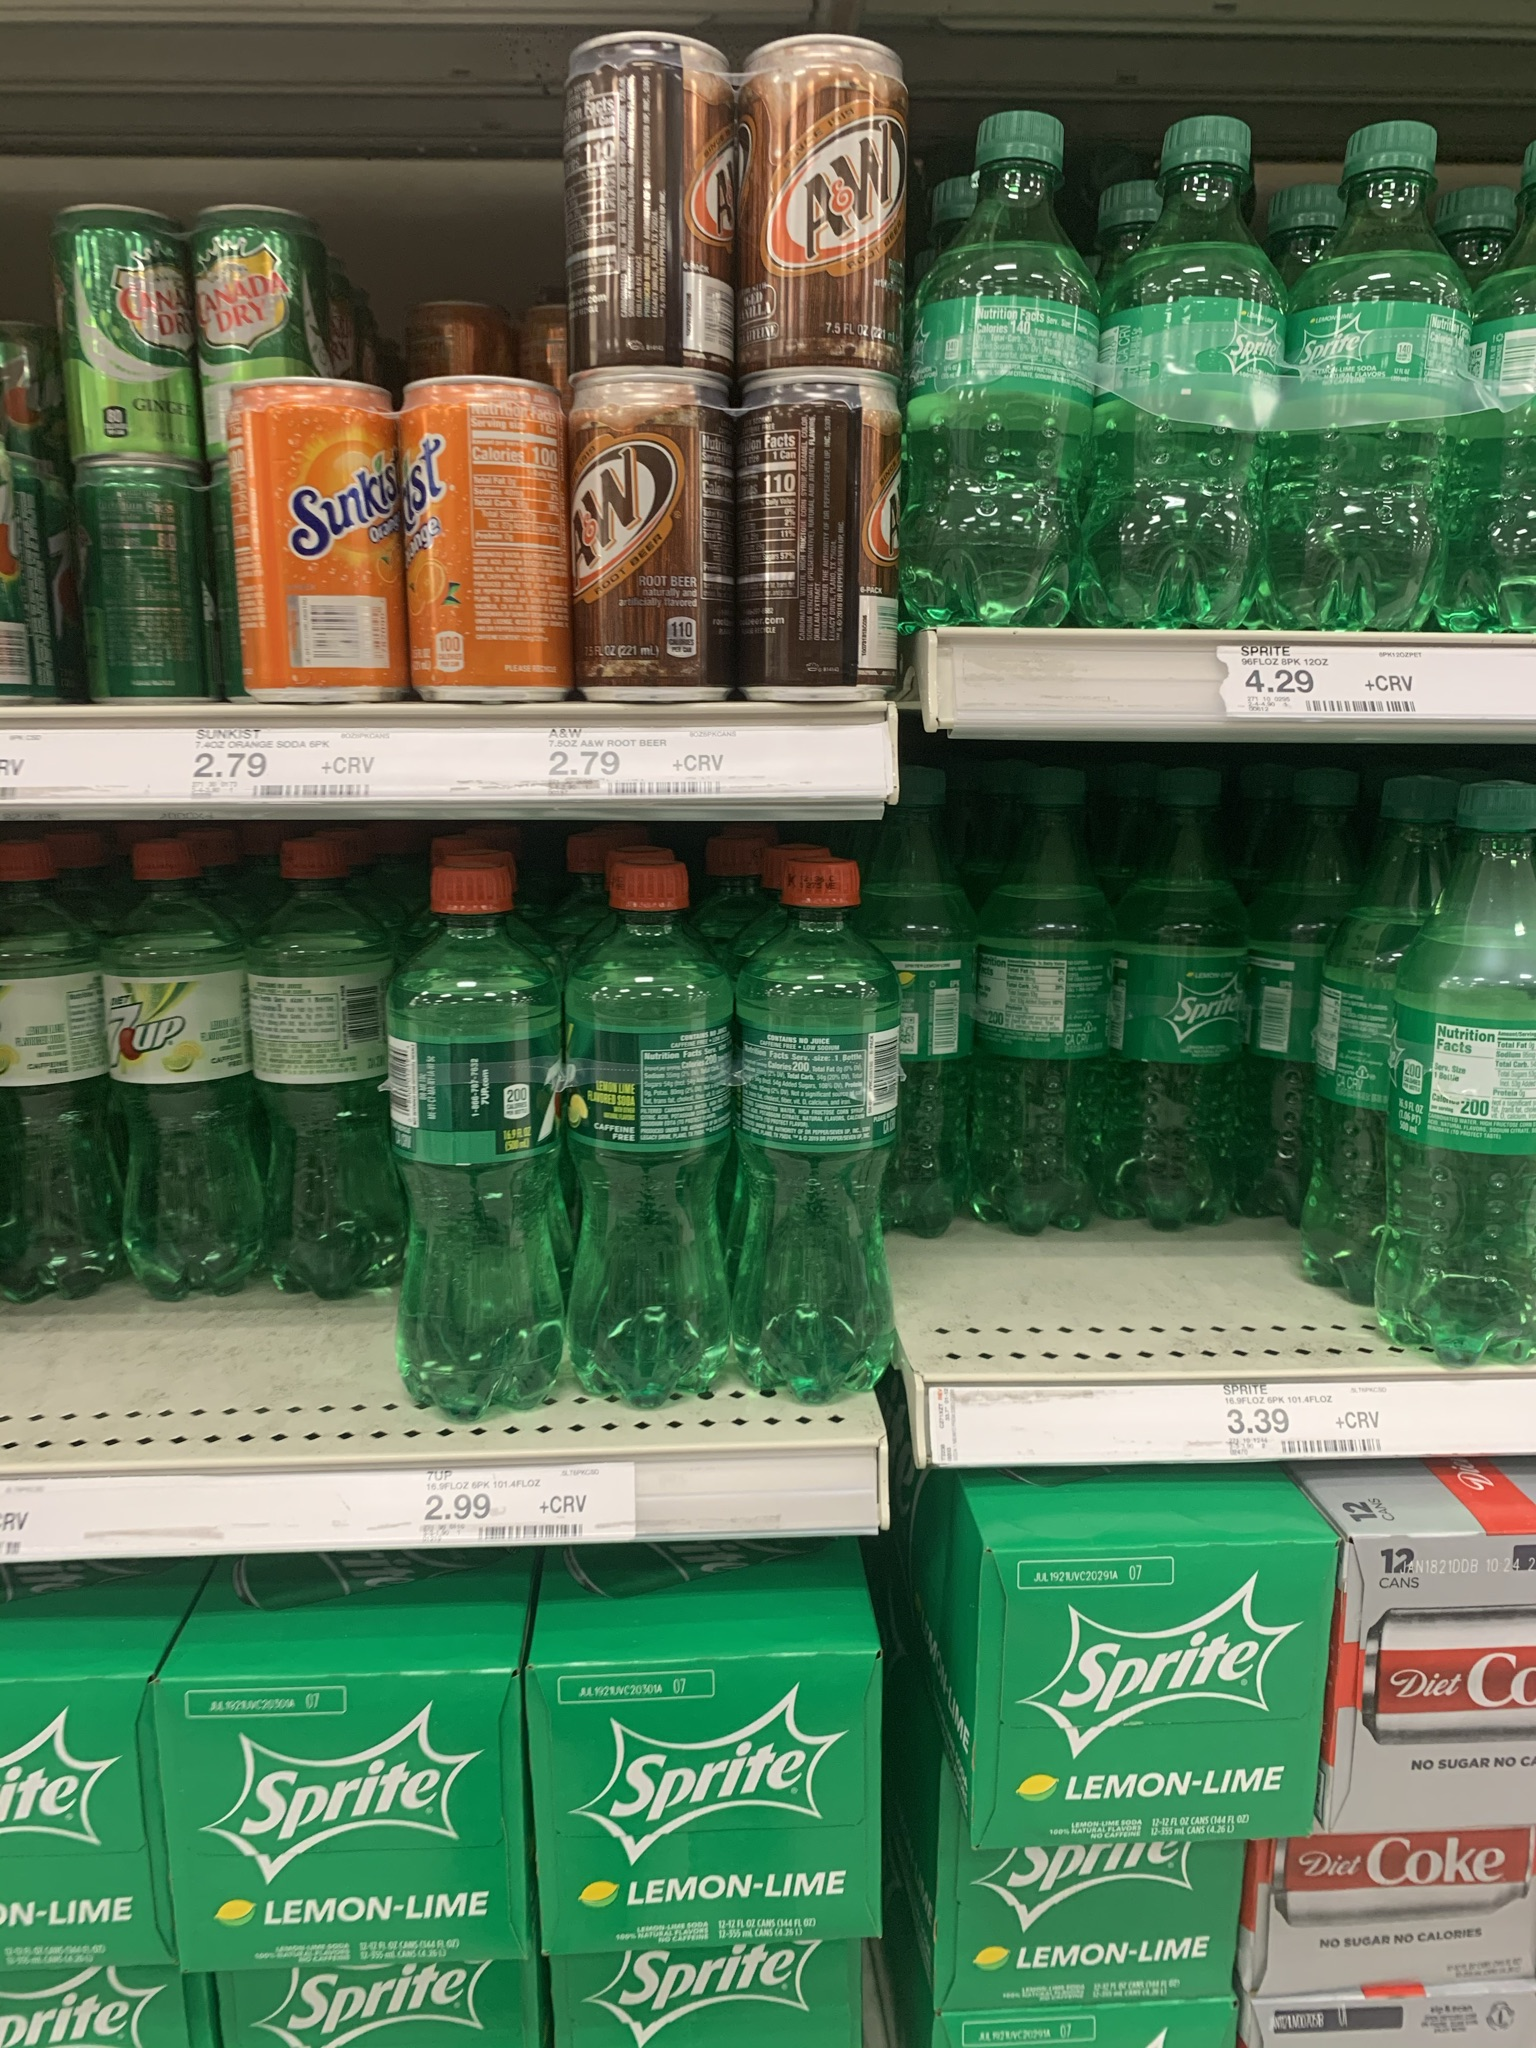Soda: (157, 1677, 537, 1963), (532, 1659, 895, 1945), (973, 1543, 1317, 1838), (1092, 111, 1283, 634), (900, 110, 1091, 627), (397, 851, 570, 1422), (1291, 118, 1467, 632), (1383, 780, 1536, 1369), (570, 856, 733, 1409), (734, 858, 897, 1409), (983, 747, 1107, 1235), (1134, 750, 1255, 1230), (729, 369, 900, 705), (565, 35, 733, 368), (742, 32, 912, 361), (565, 369, 733, 698), (402, 373, 566, 701), (232, 377, 399, 698), (48, 202, 197, 464), (187, 197, 302, 377)
